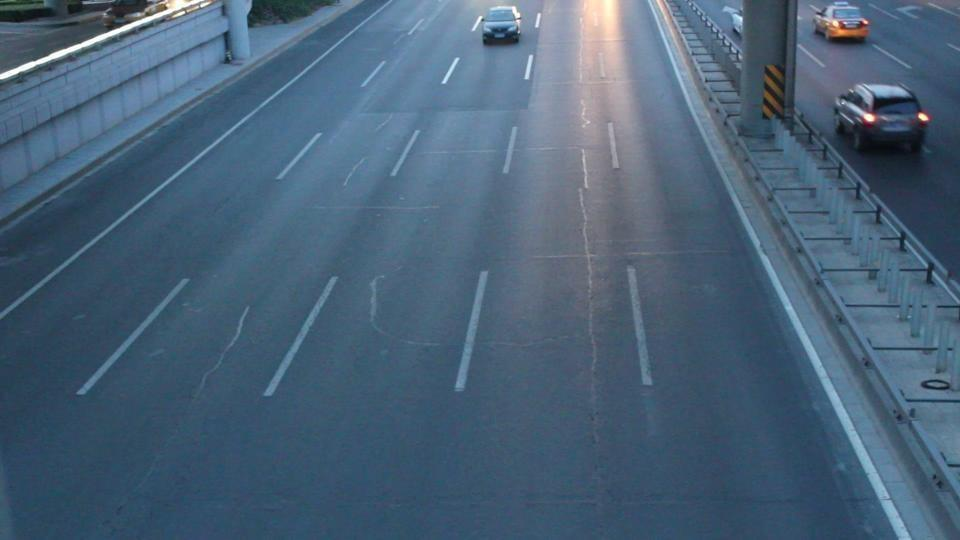car: (832, 82, 932, 154), (812, 3, 871, 42), (480, 7, 522, 45)
